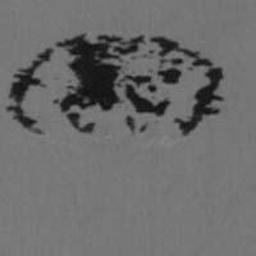Inclusion: (5, 32, 225, 138), (125, 114, 150, 138)
